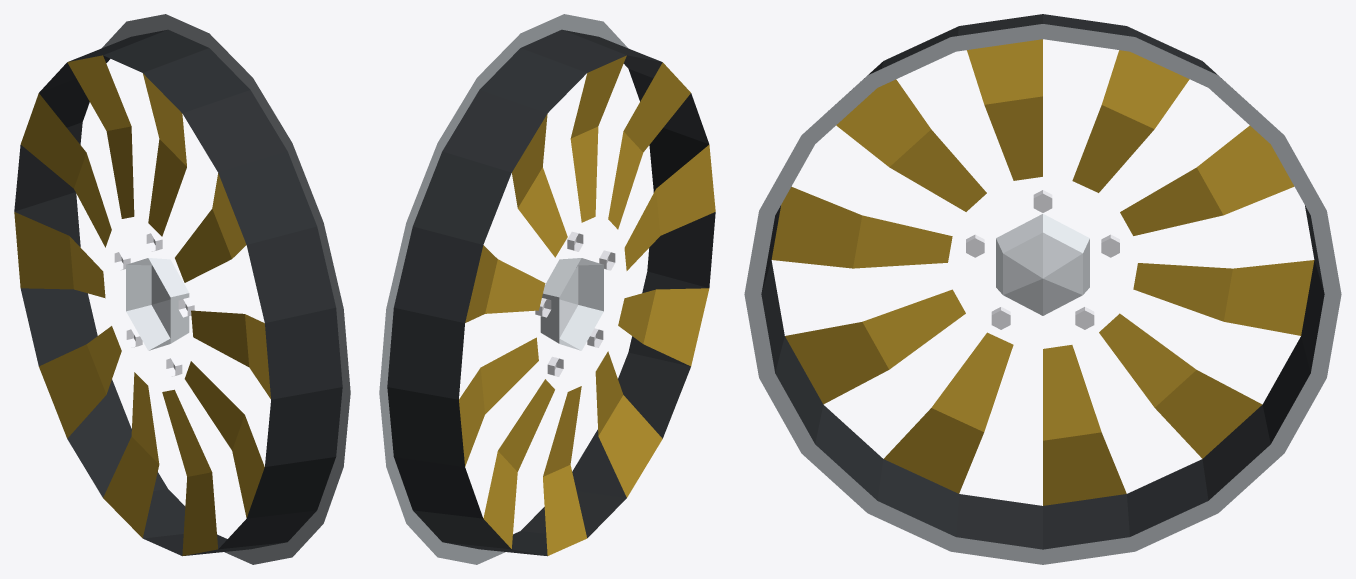
The model's file is rim_07_tuner_bbs_mesh.obj.
3 renders of one model, left to right at view 1: azimuth 30°, elevation 25°; view 2: azimuth 150°, elevation 25°; view 3: azimuth 270°, elevation 25°, orthographic. The views are drawn at different scales.
Visible parts, largest first — view 1: rim_07_tuner_bbs_mesh; view 2: rim_07_tuner_bbs_mesh; view 3: rim_07_tuner_bbs_mesh.
Boxes of the visible parts, <box> form: rim_07_tuner_bbs_mesh: <box>14,14,350,564</box>; rim_07_tuner_bbs_mesh: <box>379,14,715,564</box>; rim_07_tuner_bbs_mesh: <box>744,14,1341,564</box>.
Size of the model in its own units: 0.075 by 0.55 by 0.55.
